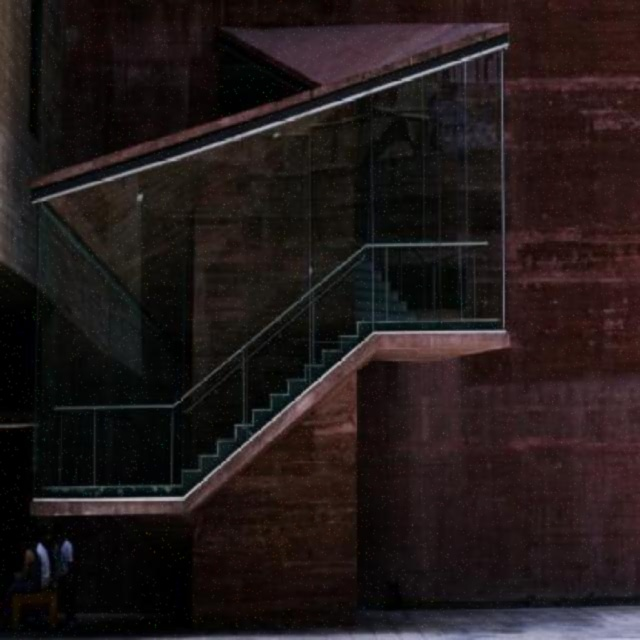stair: (180, 319, 360, 485), (355, 245, 419, 328)
